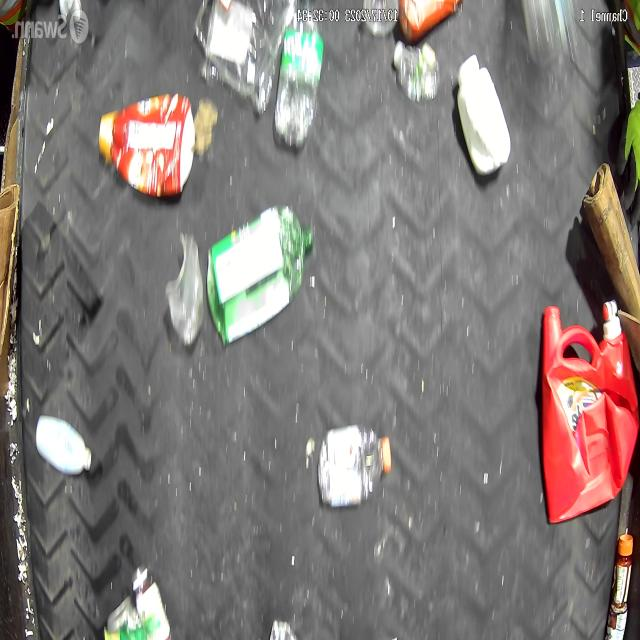can: (106, 595, 142, 640)
non_white_jug: (542, 301, 639, 524), (98, 91, 195, 197)
plastic_bottle: (314, 422, 391, 511), (276, 9, 323, 150), (392, 39, 441, 107)
